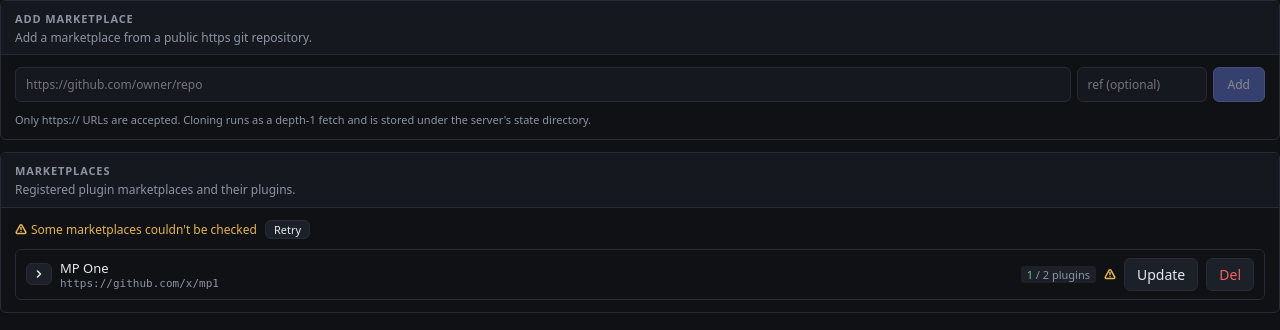
Test: MarketplaceTab update-check states › surfaces per-marketplace check errors with a Retry instead of a blank line
Expected: the text "All marketplaces up to date" is not shown
Click the button "Retry". click: (288, 229)
box: [265,220,310,239]
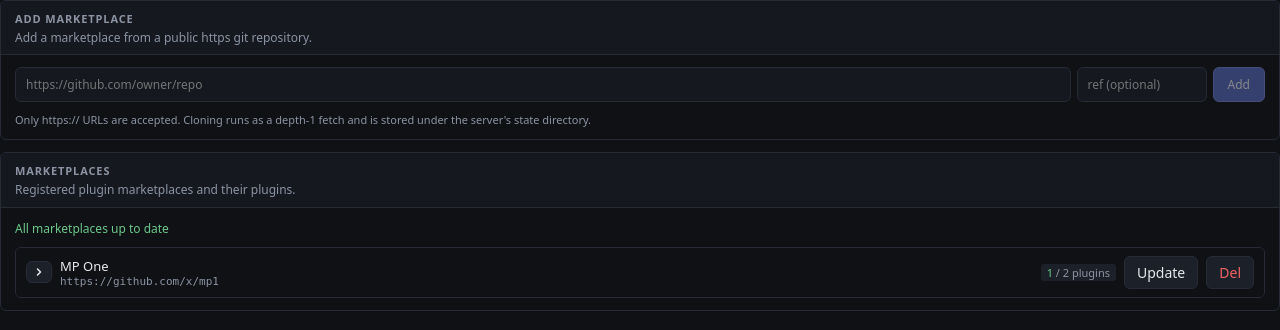
Expected: the text "All marketplaces up to date" is shown, [15,220,169,237]
Expected: the text "Some marketplaces couldn't be checked" is gone
